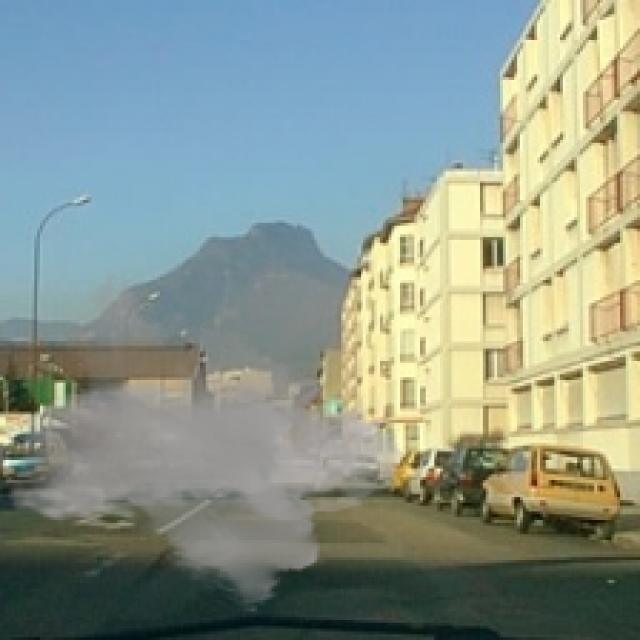smoke: (6, 272, 403, 614)
